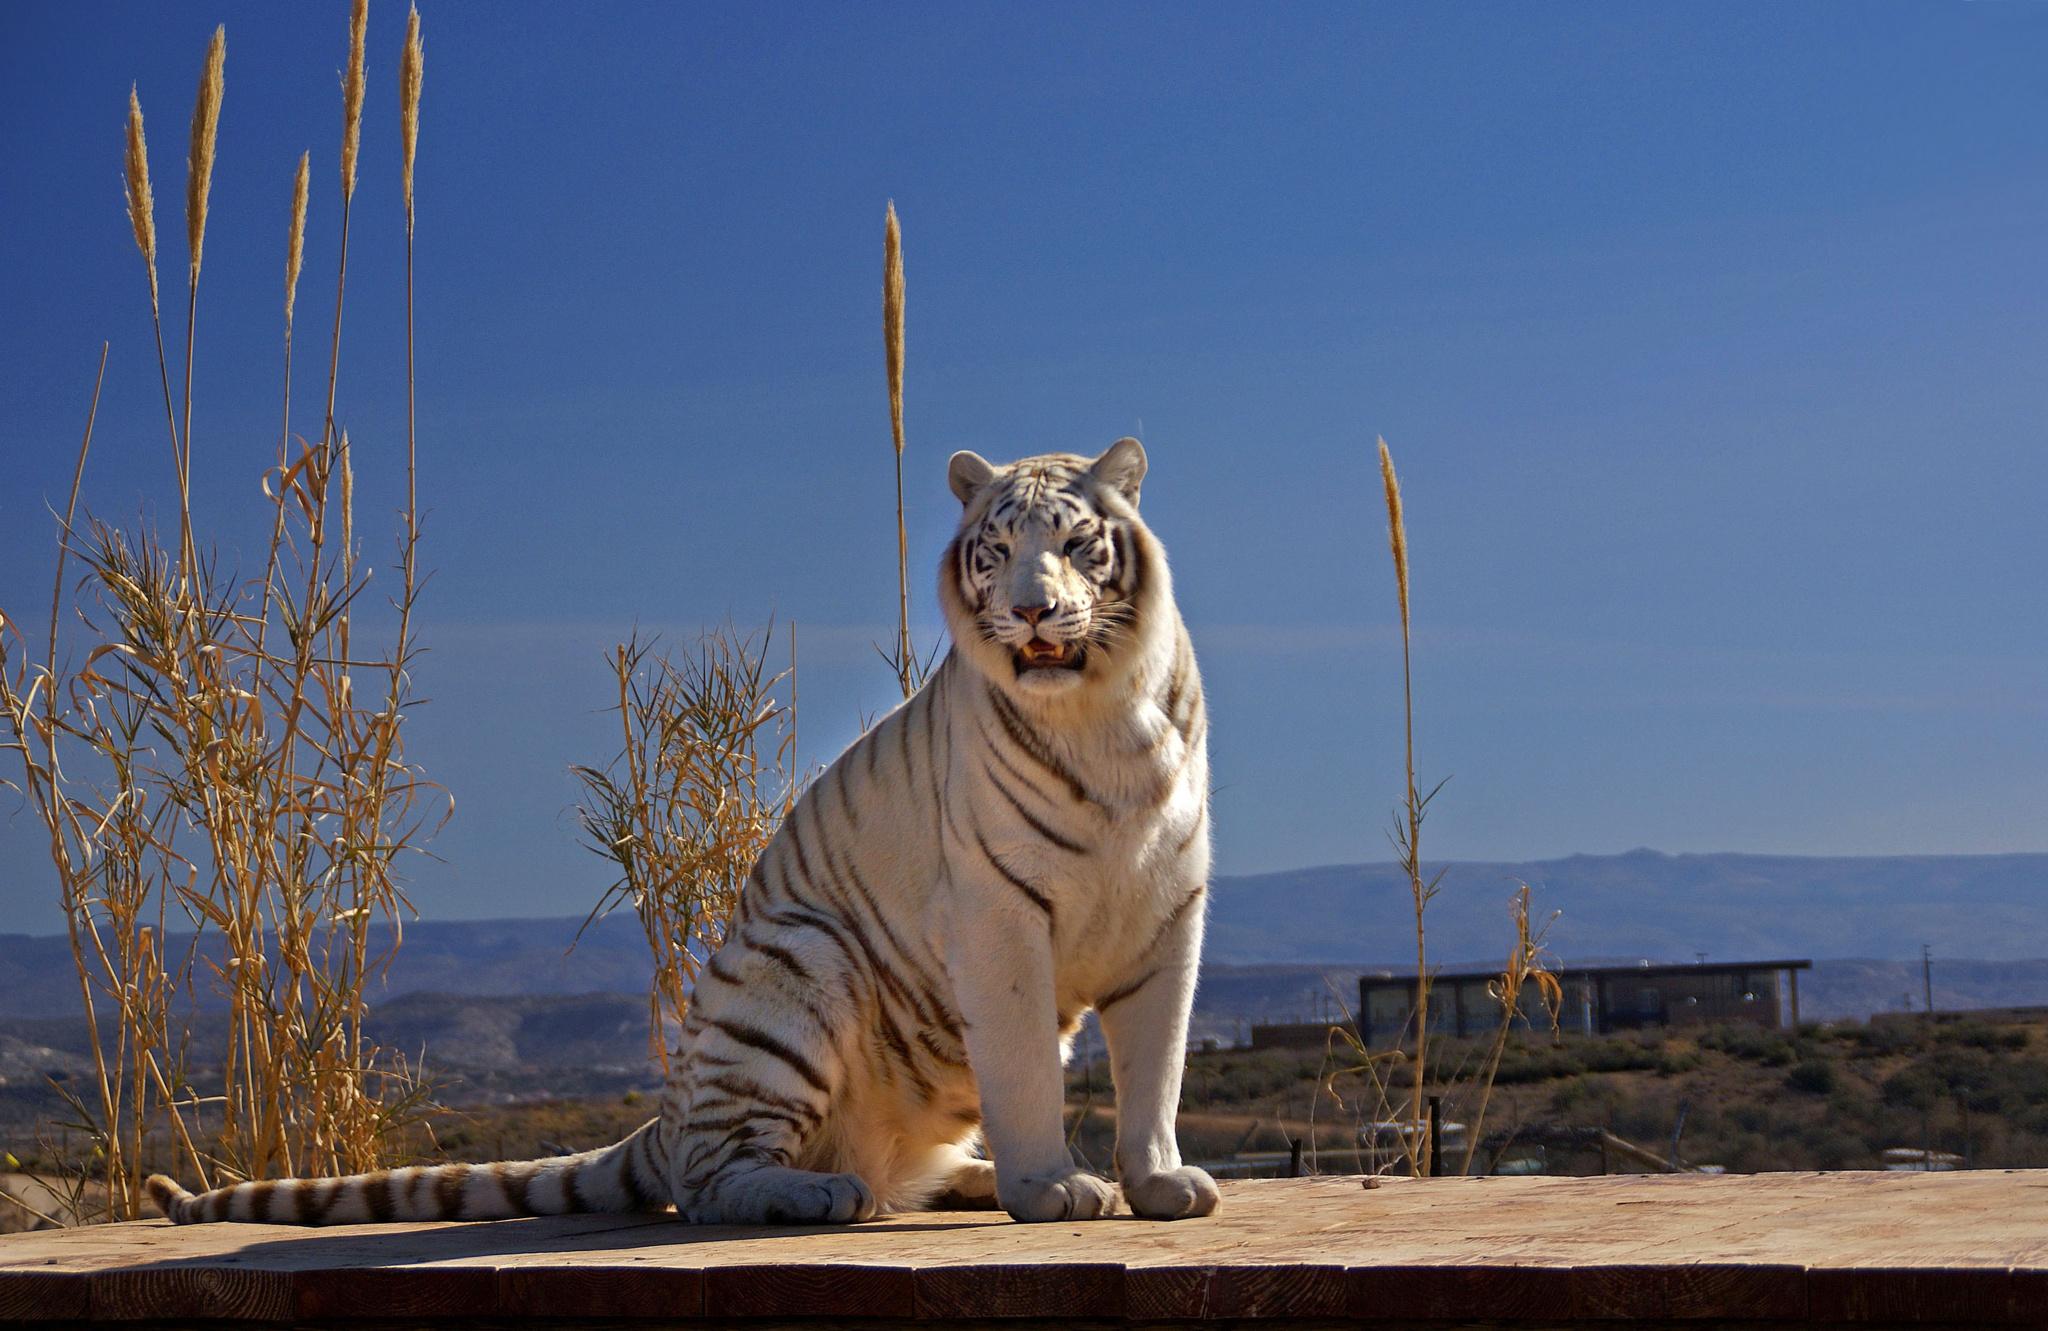tiger: (596, 445, 1234, 1222)
